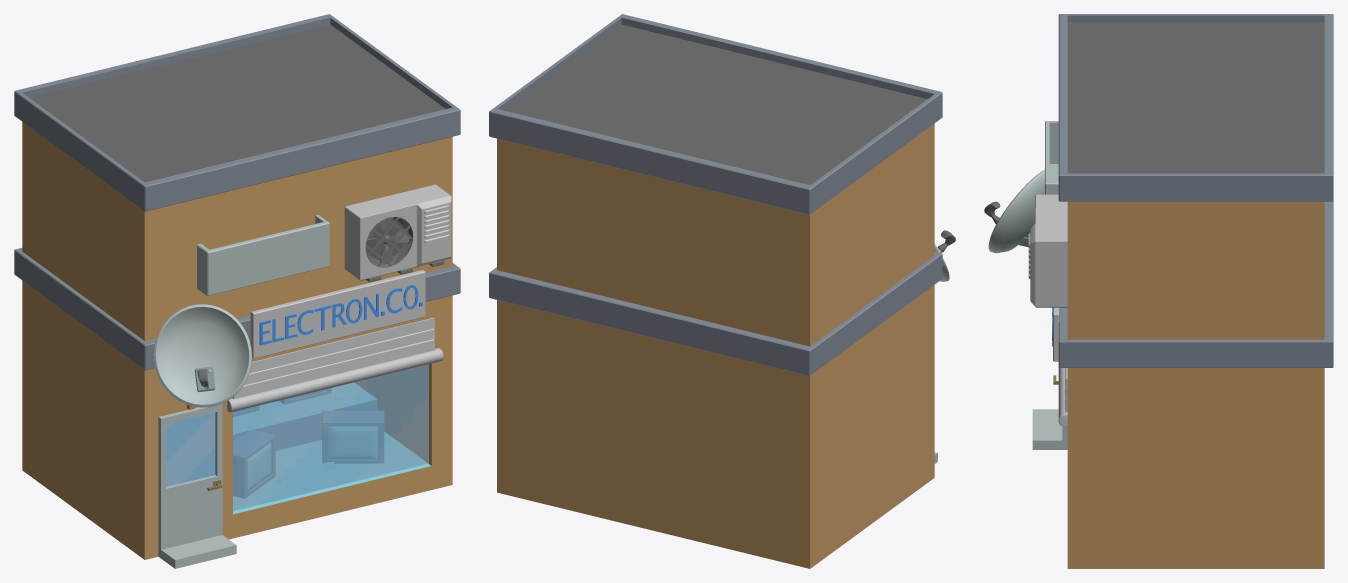
Rendered from electrone_house.fbx.
3 views of the same model, side by side, from view 1: azimuth 30°, elevation 25°; view 2: azimuth 150°, elevation 25°; view 3: azimuth 270°, elevation 25° (orthographic). The views are drawn at different scales.
Parts seen in each view (by area): view 1: body, glass1; view 2: body; view 3: body.
Boxes of the visible parts, x1,y1,x2,y2 form: body: (14,14,460,568); glass1: (233,364,428,511); body: (489,14,955,568); body: (984,14,1333,568).
Bounding box in the file's own units: 970 × 1107 × 886.
